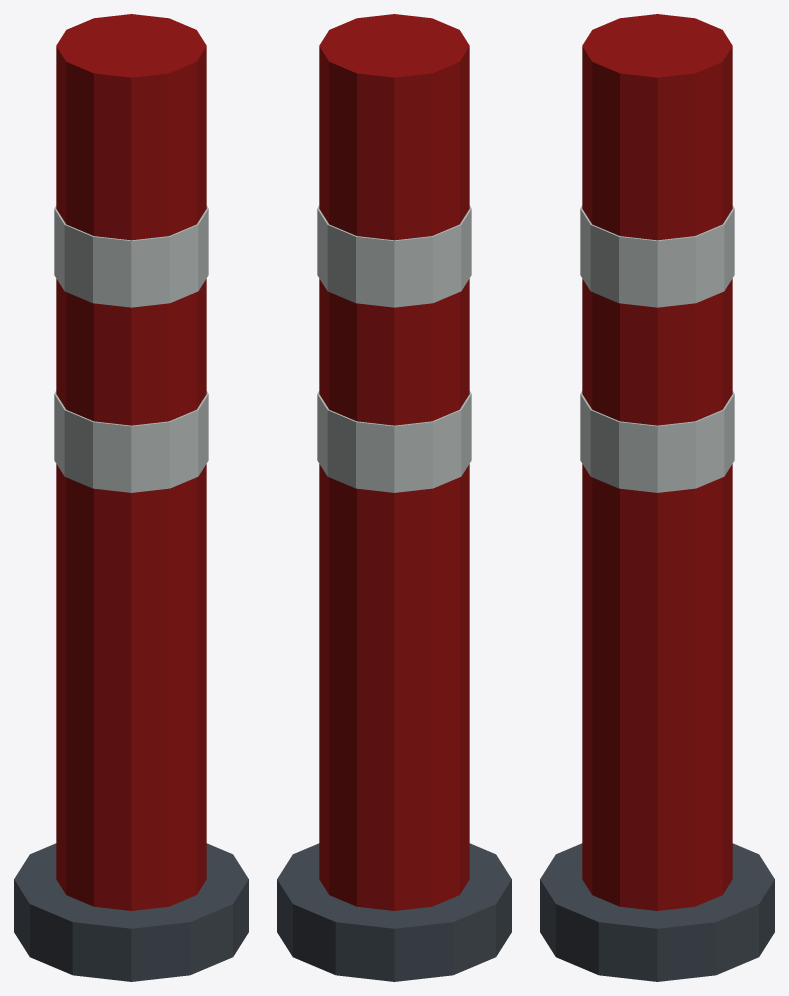
Rendered from BollardRed.fbx.
3 renders of one model, left to right at view 1: azimuth 30°, elevation 25°; view 2: azimuth 150°, elevation 25°; view 3: azimuth 270°, elevation 25°, orthographic.
Visible parts, largest first — view 1: BollardRed; view 2: BollardRed; view 3: BollardRed.
Part boxes in pixels (bbox=[...]): BollardRed: bbox=[14, 14, 248, 981]; BollardRed: bbox=[277, 14, 511, 981]; BollardRed: bbox=[540, 14, 774, 981].
Size of the model in its own units: 24 by 100 by 24.
Materials: 1 (1 with a texture image).
